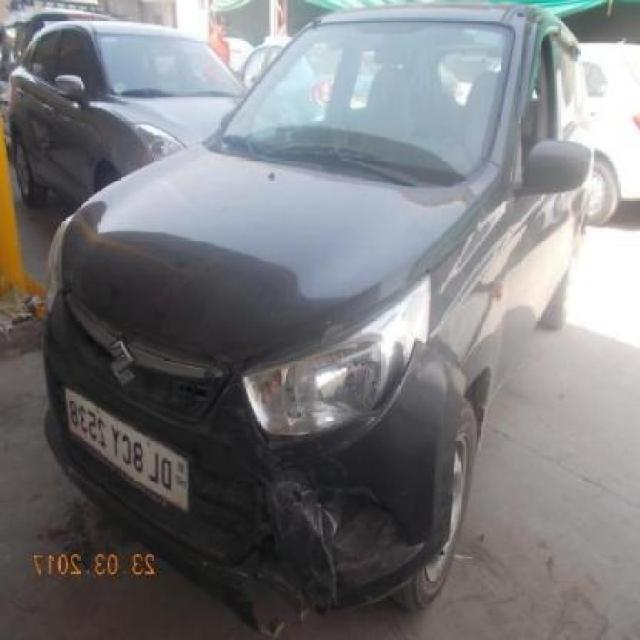damage: (233, 477, 421, 639)
